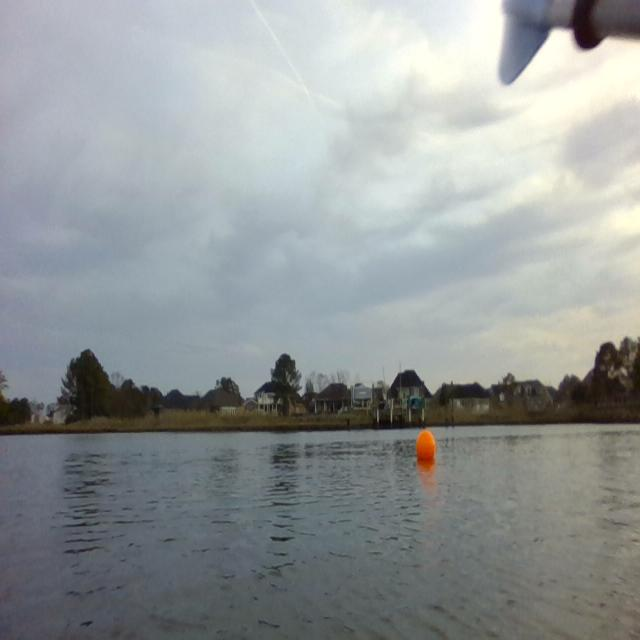Buoy: (416, 424, 438, 468)
